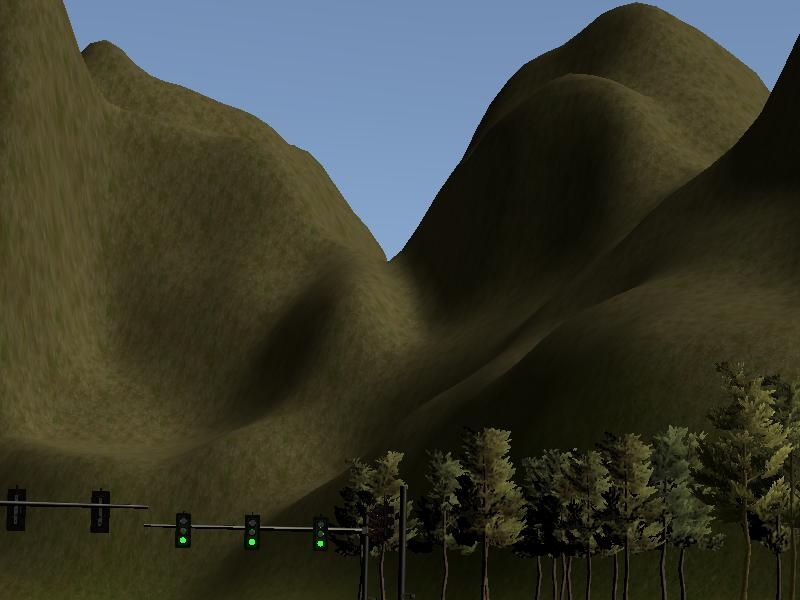green: (174, 512, 192, 547), (245, 514, 261, 552), (313, 516, 329, 553)
